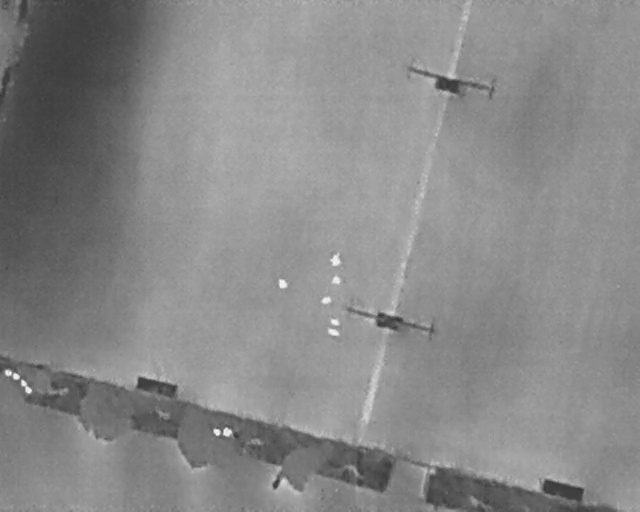Car: (326, 326, 342, 339), (331, 253, 343, 267), (278, 278, 288, 289), (332, 275, 343, 285), (321, 296, 333, 305), (330, 318, 341, 327)
